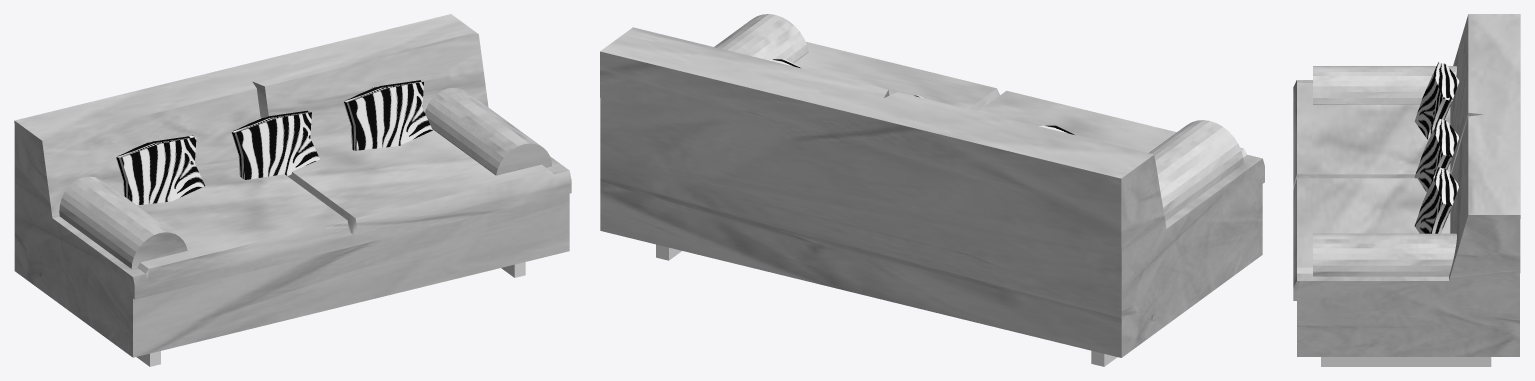
The model's file is sofa.fbx.
3 views of the same model, side by side, from view 1: azimuth 30°, elevation 25°; view 2: azimuth 150°, elevation 25°; view 3: azimuth 270°, elevation 25° (orthographic). The views are drawn at different scales.
Visible parts, largest first — view 1: Cube, Cubo.002, Cubo, Cubo.001, Cubo.003; view 2: Cube, Cubo.003; view 3: Cube, Cubo, Cubo.002, Cubo.003, Cubo.001.
Boxes of the visible parts, box(x1,y1,x2,y2) form: Cube: box(14, 14, 571, 357); Cubo.002: box(343, 80, 432, 151); Cubo: box(116, 135, 204, 205); Cubo.001: box(231, 110, 319, 179); Cubo.003: box(136, 262, 525, 366); Cube: box(600, 14, 1264, 357); Cubo.003: box(656, 244, 1117, 366); Cube: box(1293, 14, 1520, 356); Cubo: box(1414, 62, 1459, 139); Cubo.002: box(1414, 167, 1459, 233); Cubo.003: box(1321, 357, 1491, 366); Cubo.001: box(1414, 118, 1459, 192).
Bounding box in the file's own units: 283 × 135 × 109.
3 materials, 2 textured.
